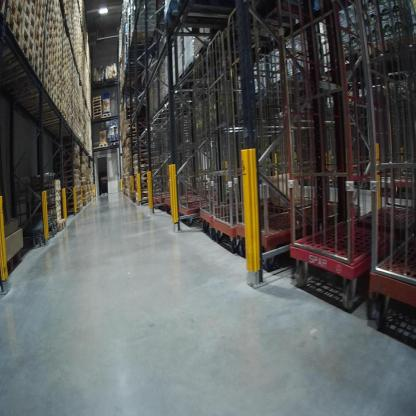pallet: (166, 0, 273, 44), (6, 61, 42, 99), (3, 42, 34, 85), (20, 91, 58, 112), (5, 8, 20, 53), (130, 26, 158, 48), (25, 79, 51, 99), (32, 102, 62, 119), (9, 2, 25, 32), (20, 28, 33, 55), (24, 16, 34, 46), (23, 4, 36, 26), (33, 24, 43, 50), (33, 47, 44, 70), (34, 6, 45, 28), (23, 1, 37, 18), (37, 2, 49, 21), (32, 40, 42, 61), (43, 42, 53, 63), (134, 171, 156, 180), (42, 20, 51, 40), (43, 29, 52, 47), (36, 21, 44, 41), (56, 218, 68, 230), (44, 69, 51, 87), (44, 55, 52, 68), (102, 112, 114, 120), (45, 63, 52, 75), (99, 142, 109, 150), (109, 141, 120, 148), (92, 102, 103, 108), (92, 115, 103, 121), (92, 95, 102, 101), (92, 105, 103, 110), (93, 111, 104, 116), (93, 98, 103, 103), (93, 109, 103, 114)
